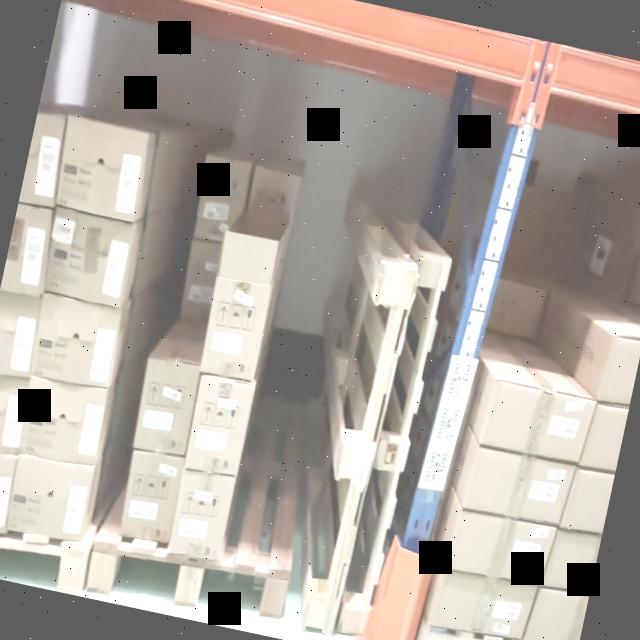box: (485, 382, 598, 465), (56, 117, 145, 220), (47, 203, 137, 303), (464, 448, 579, 525), (450, 507, 558, 586), (180, 368, 260, 472), (32, 296, 123, 387), (6, 458, 100, 541), (200, 277, 272, 382), (20, 380, 107, 466), (130, 360, 200, 459), (429, 573, 538, 635), (165, 472, 233, 560), (119, 458, 184, 544)
